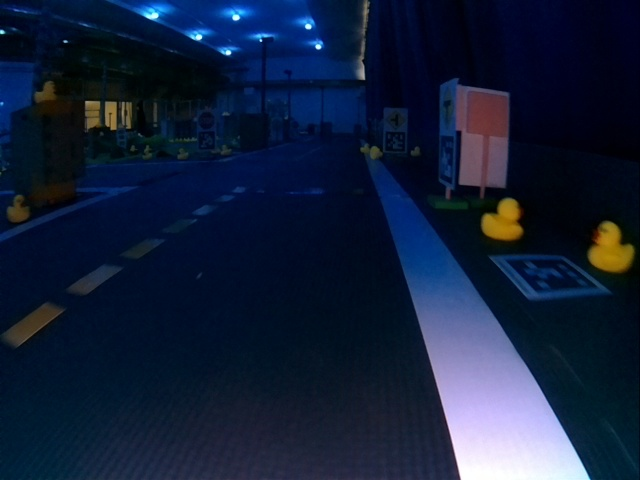Duckie: (591, 221, 632, 271), (480, 198, 523, 240), (7, 195, 28, 222), (34, 81, 56, 101), (411, 147, 420, 157), (370, 147, 380, 155), (178, 149, 187, 157), (220, 146, 230, 153), (131, 145, 138, 153), (143, 151, 151, 158), (363, 144, 369, 150)
Intersection sign: (439, 88, 455, 129), (387, 110, 405, 129)
QR code: (492, 255, 609, 299), (439, 138, 456, 187), (385, 132, 405, 151)
